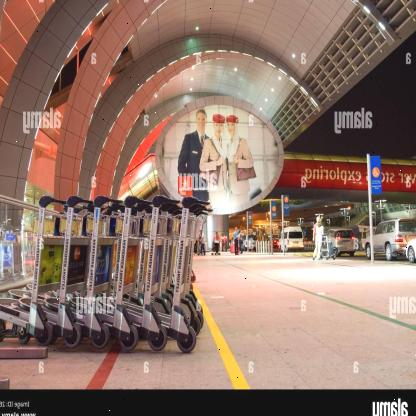airport-trolley: (126, 195, 215, 353), (14, 194, 94, 348), (0, 195, 66, 346), (80, 194, 121, 352), (148, 195, 174, 351), (121, 192, 146, 354)
